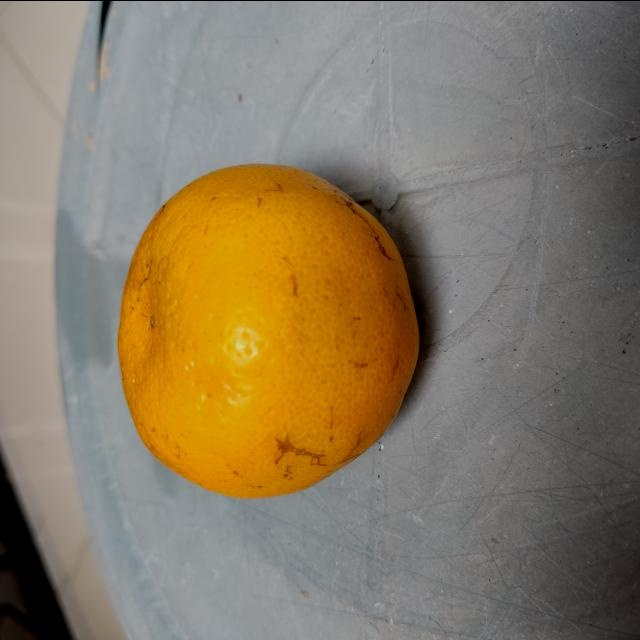agrume: (113, 157, 427, 501)
